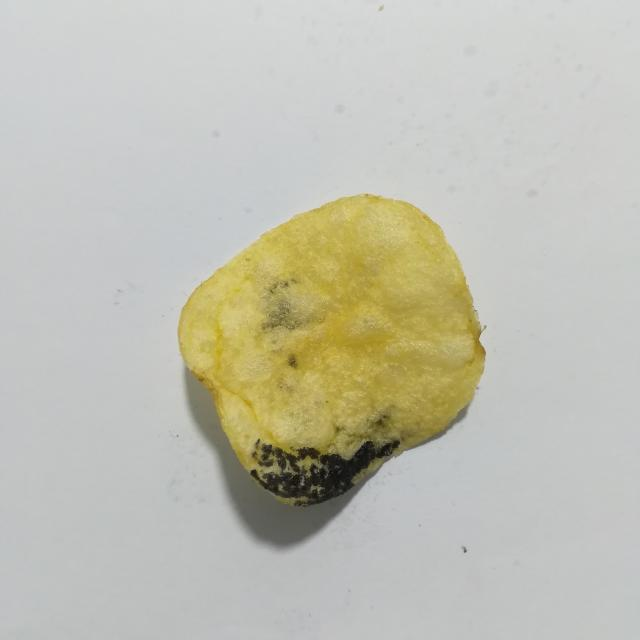chip: (178, 194, 485, 505)
damaged: (251, 440, 400, 505)
semi-damaged: (319, 406, 401, 458), (266, 299, 303, 330), (268, 279, 296, 294), (288, 354, 297, 367)
